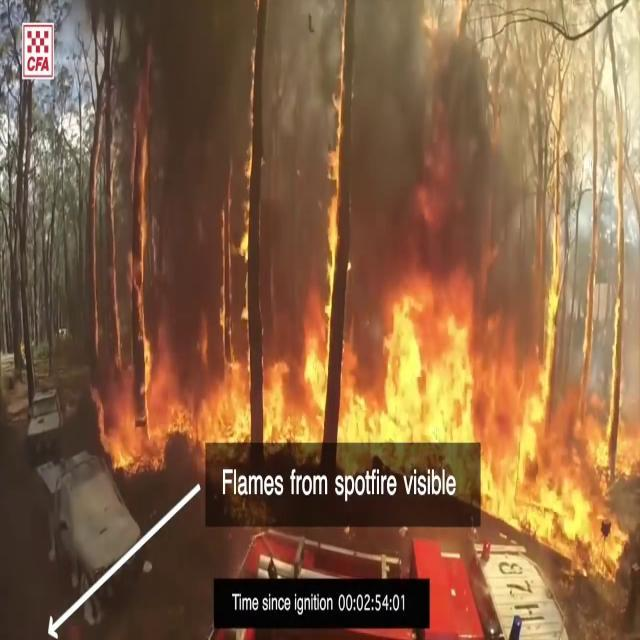Fire: (108, 209, 490, 447), (493, 151, 640, 598)
Smoke: (102, 0, 535, 308)
